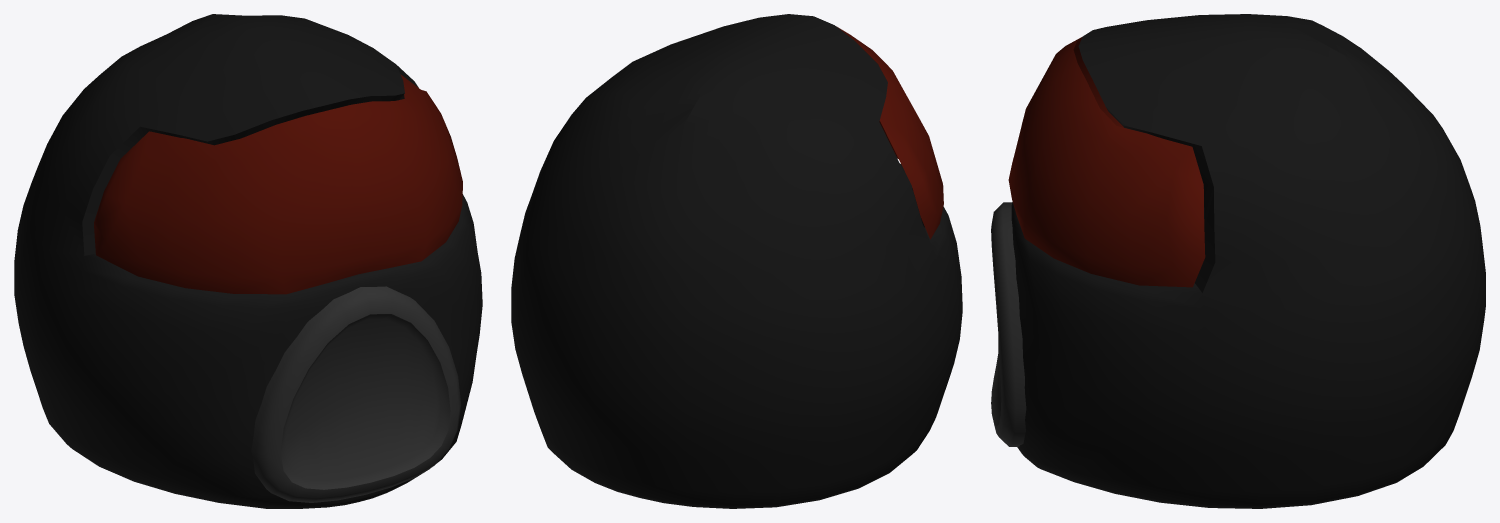
Rendered from PPHelm.FBX.
The picture shows the model from 3 angles, left to right: view 1: azimuth 30°, elevation 25°; view 2: azimuth 150°, elevation 25°; view 3: azimuth 270°, elevation 25°; orthographic projection. The views are drawn at different scales.
Visible parts, largest first — view 1: Helm, Visor, Misc1; view 2: Helm, Visor; view 3: Helm, Visor, Misc1.
Part boxes in pixels (x1,y1,x2,y2): Helm: [14, 14, 482, 508]; Visor: [94, 74, 462, 294]; Misc1: [251, 286, 460, 502]; Helm: [511, 14, 962, 508]; Visor: [836, 26, 943, 239]; Helm: [1011, 14, 1485, 508]; Visor: [1008, 37, 1205, 287]; Misc1: [991, 202, 1026, 446].
Bounding box in the file's own units: 0.2727 × 0.2557 × 0.2845.
